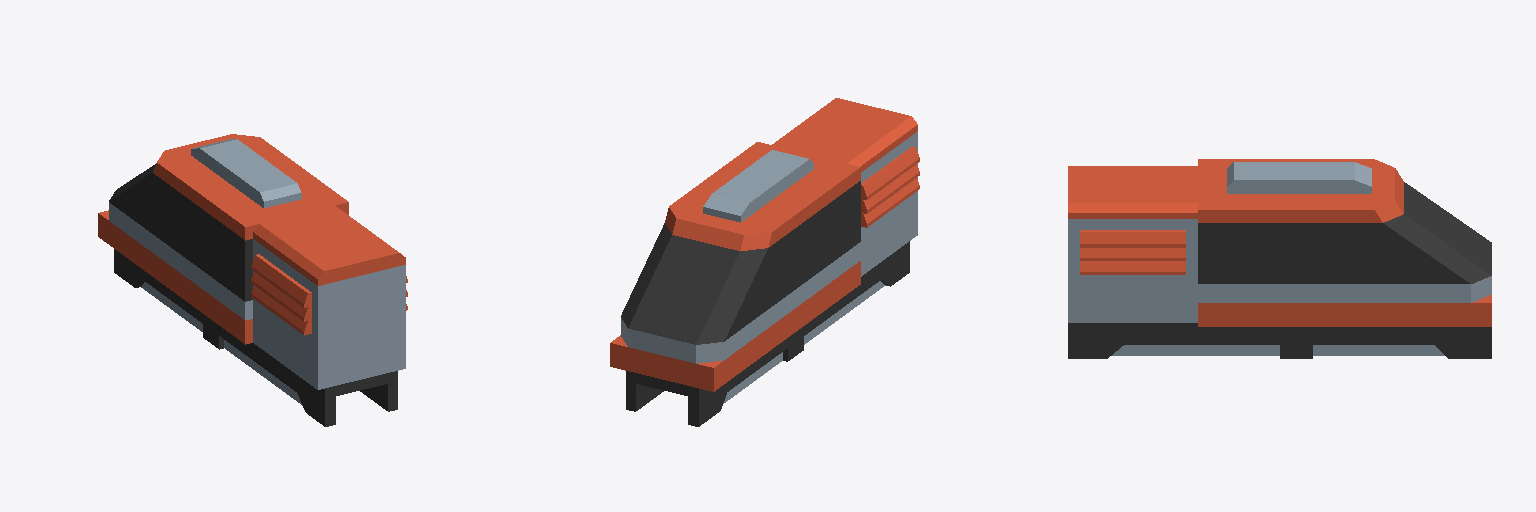
Rendered from monorailTrain_front_exclusive.obj.
The picture shows the model from 3 angles: view 1: azimuth 30°, elevation 25°; view 2: azimuth 150°, elevation 25°; view 3: azimuth 270°, elevation 25°; orthographic projection.
Parts seen in each view (by area): view 1: monorailTrain_front_exclusive; view 2: monorailTrain_front_exclusive; view 3: monorailTrain_front_exclusive.
Boxes of the visible parts, x1=… form: monorailTrain_front_exclusive: x1=98, y1=134, x2=407, y2=426; monorailTrain_front_exclusive: x1=610, y1=98, x2=919, y2=426; monorailTrain_front_exclusive: x1=1068, y1=159, x2=1491, y2=358.
Size of the model in its own units: 4.06 by 6.36 by 14.4.